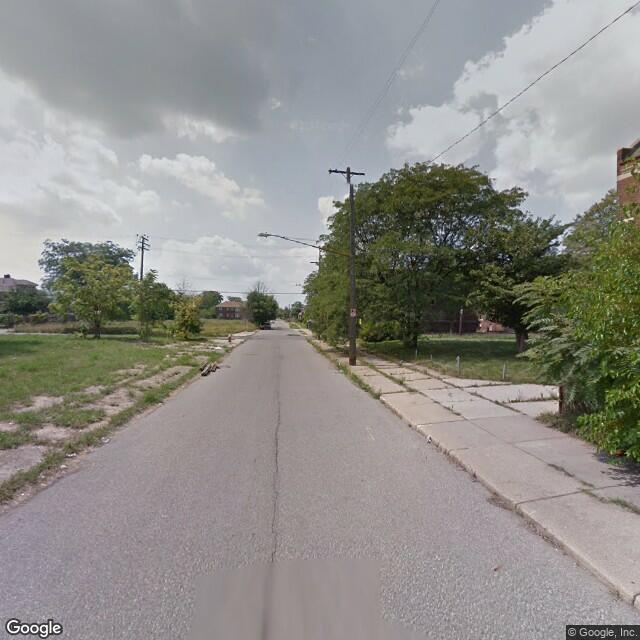litter: (99, 436, 109, 442), (65, 451, 76, 456), (59, 463, 68, 469), (39, 473, 44, 479)
